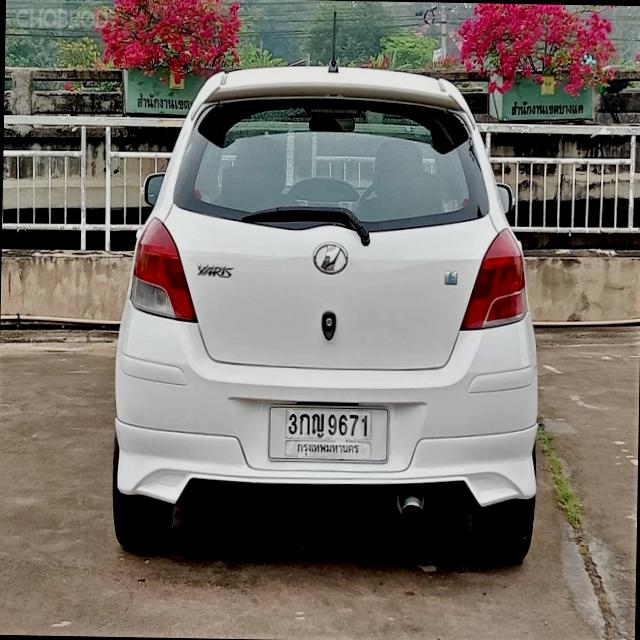license_plate: (264, 396, 392, 468)
